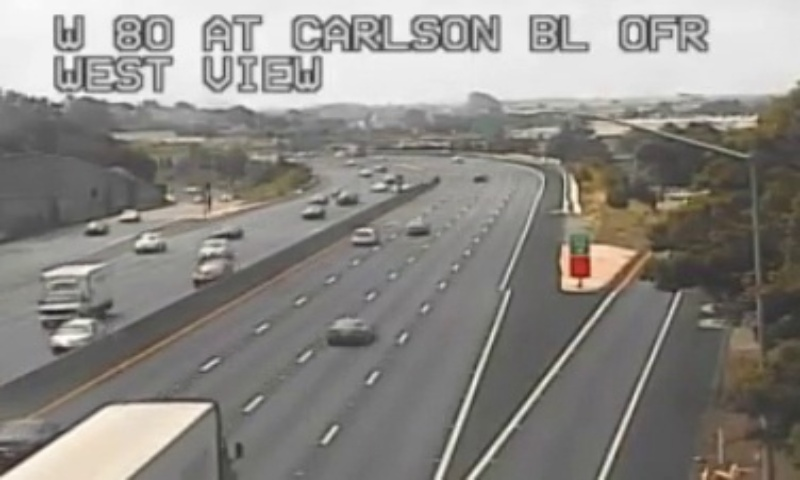car: (325, 317, 370, 346), (349, 227, 377, 245)
